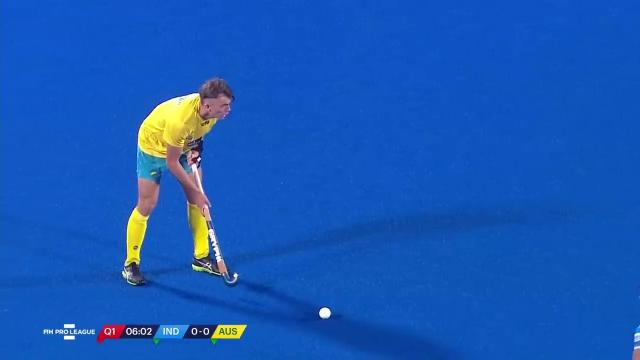ball: (309, 301, 339, 322)
